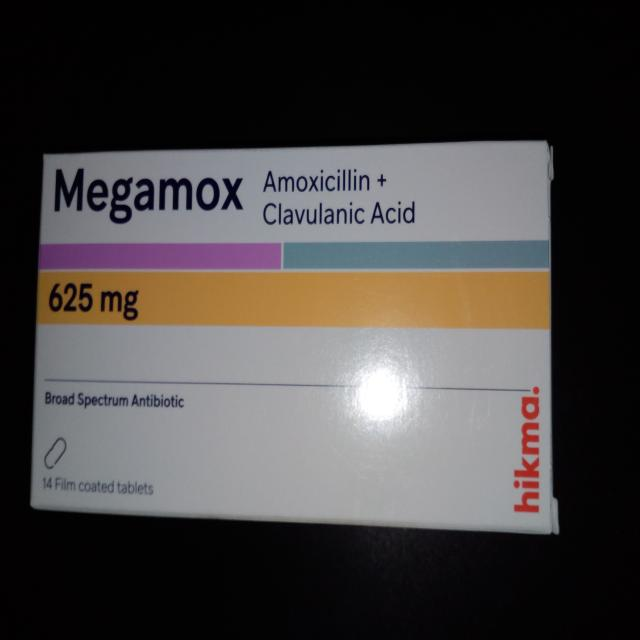Medicine: (29, 143, 565, 538)
